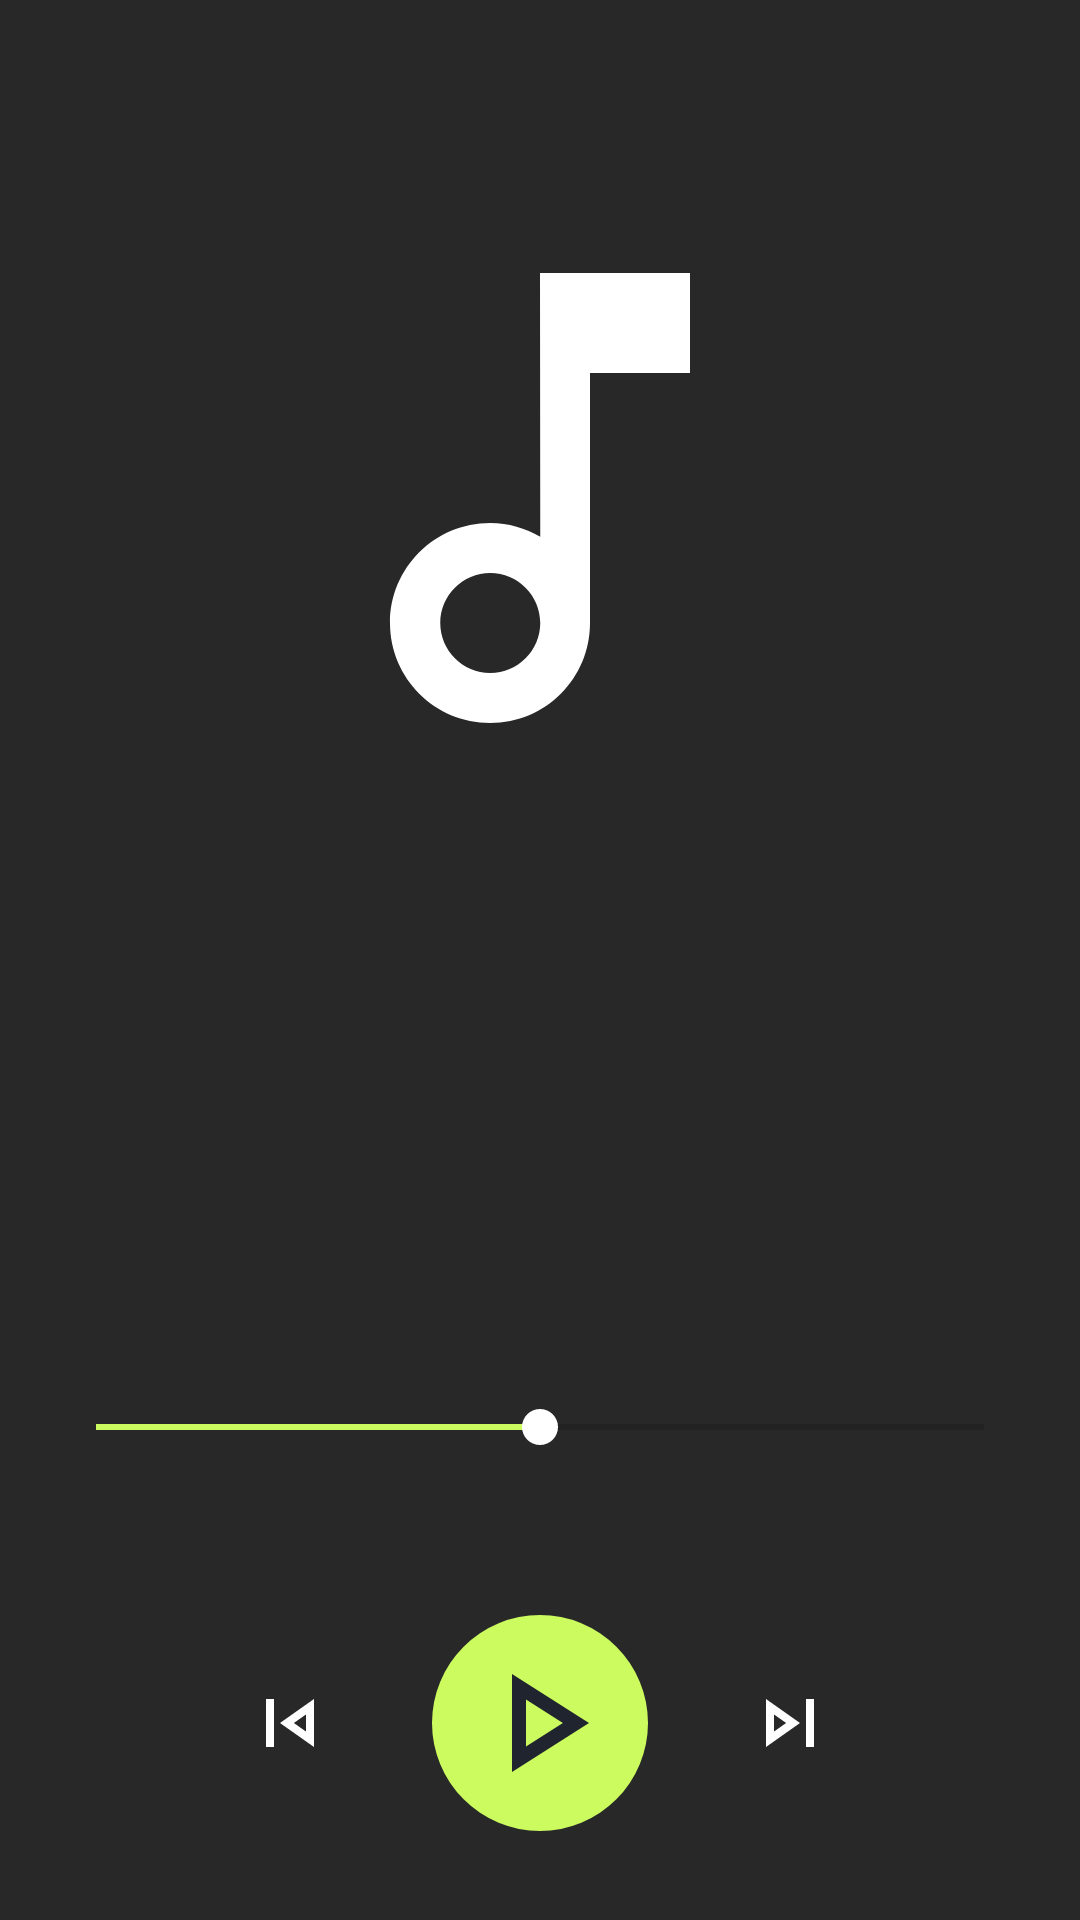

Icons on this 1080x1920 Android screen, each with its box as bbox=(x1, y1, x2, y2):
next: bbox=(766, 1699, 814, 1747)
play: bbox=(432, 1615, 648, 1831)
previous: bbox=(266, 1699, 314, 1747)
